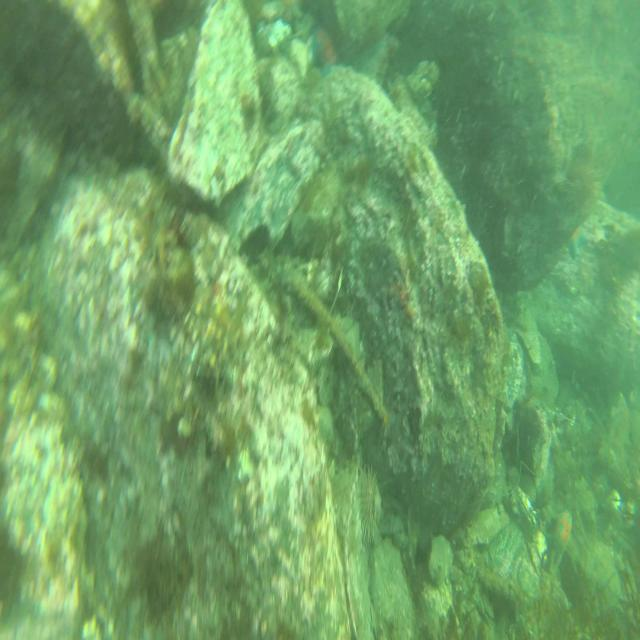echinus: (353, 462, 380, 546)
starfish: (308, 18, 343, 77)
